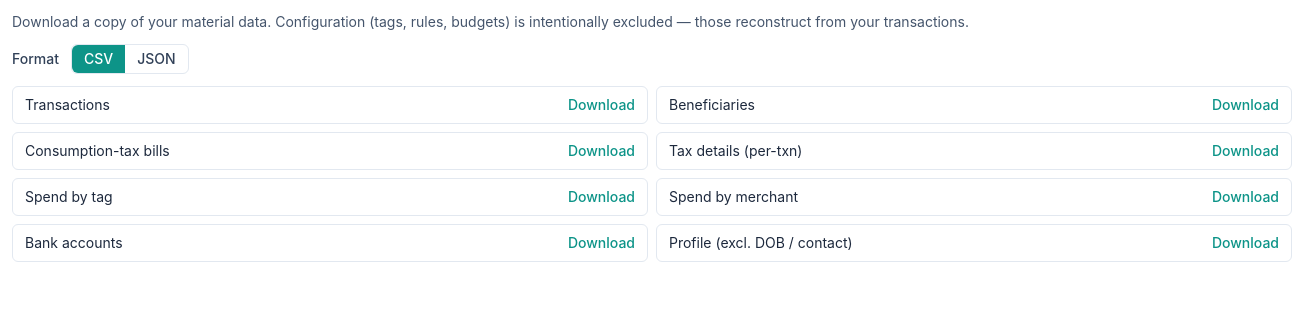
Test: DataExportPanel › surfaces a non-OK response inline
Click the button with test id "export-transactions".
click(601, 105)  # box [568, 95, 635, 115]
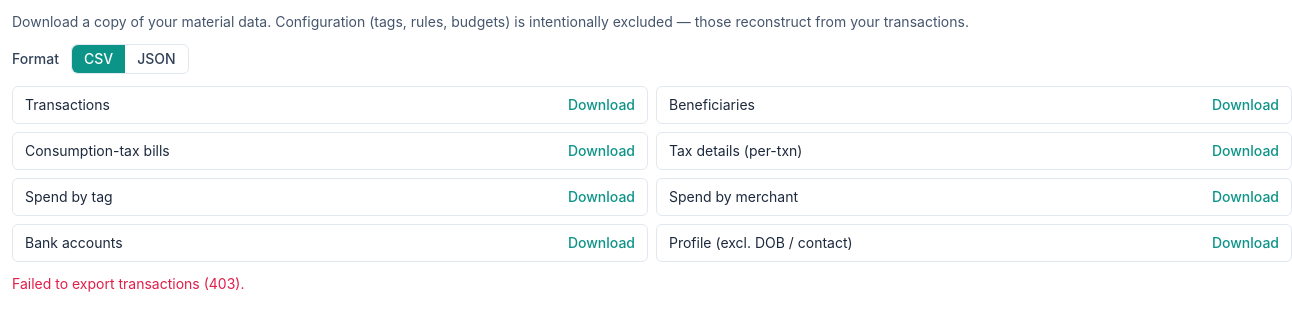
Expected: the message shows "Failed to export transactions (403)", [12, 275, 244, 292]
